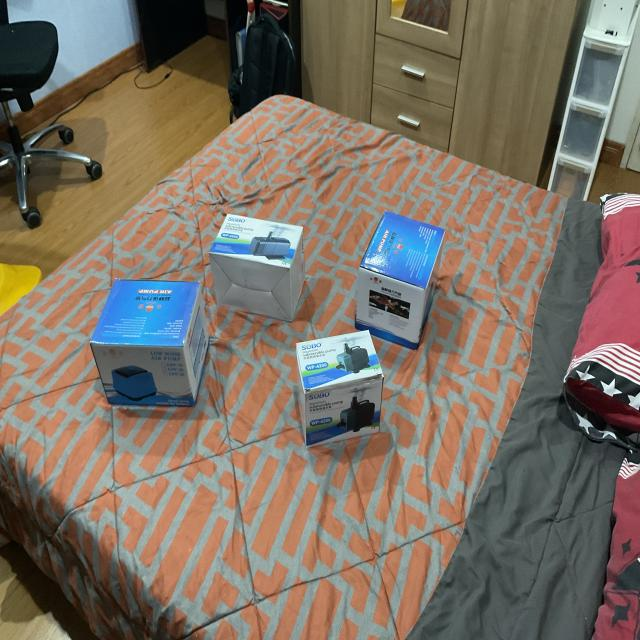SOBO_WP_4200: (207, 208, 319, 334), (286, 325, 394, 450)
YAMANO_LPP_20: (93, 269, 219, 423), (348, 200, 456, 358)
